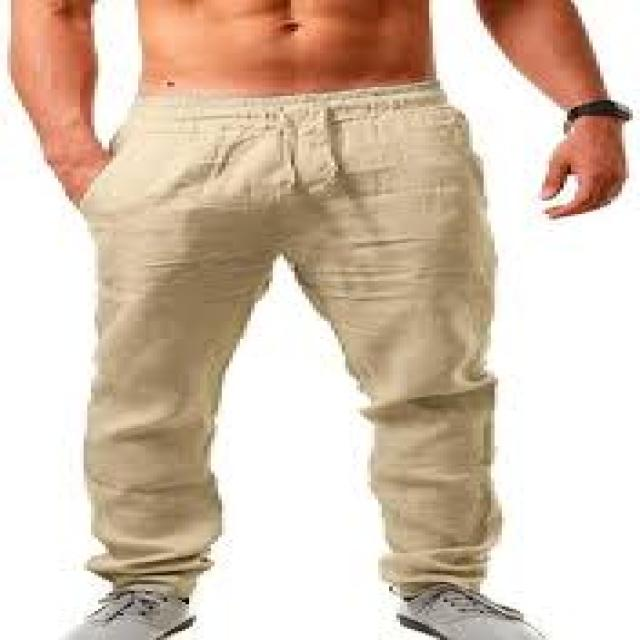pants: (60, 81, 516, 590)
